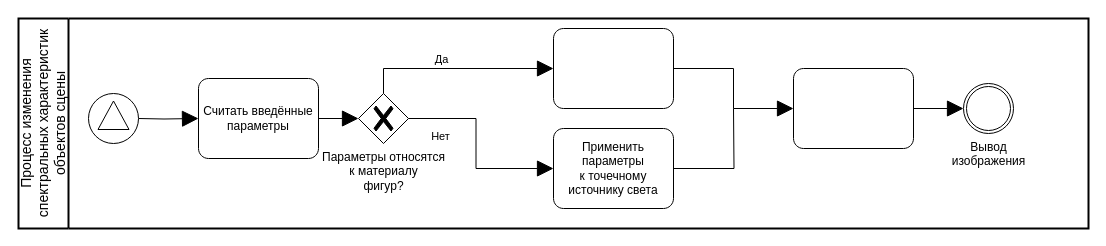
This 1106x246 diagram has some shape labels left out. The centre of each missing label's shape, as x and y in pixels:
Выполнить обратную трассировку лучей: point (853, 108)
Пользователь нажал кнопку "применить": point (113, 118)
Применить параметры к материалу шахматных фигур: point (613, 68)
